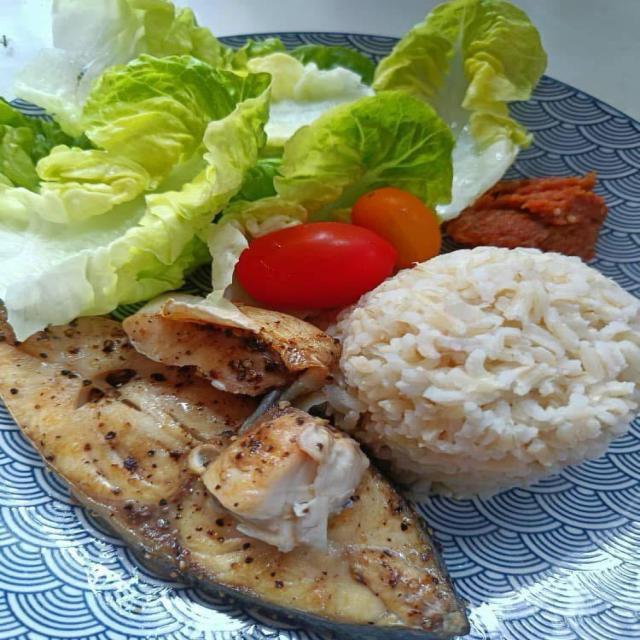Fish: (0, 290, 474, 636)
Plate: (420, 417, 639, 639)
Rice: (320, 251, 639, 498)
Vegetables: (0, 0, 551, 345)
